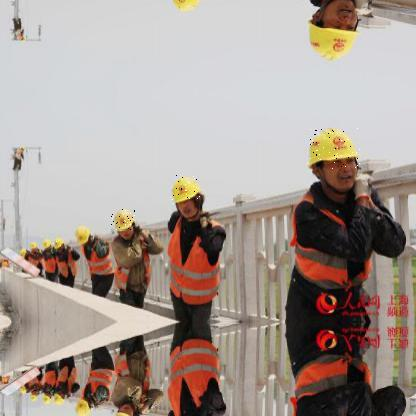safetyhelmet: (306, 128, 361, 170), (170, 174, 202, 206), (110, 209, 136, 232), (74, 226, 92, 245), (53, 240, 65, 251), (19, 248, 28, 260), (29, 242, 36, 250), (44, 240, 51, 246)
